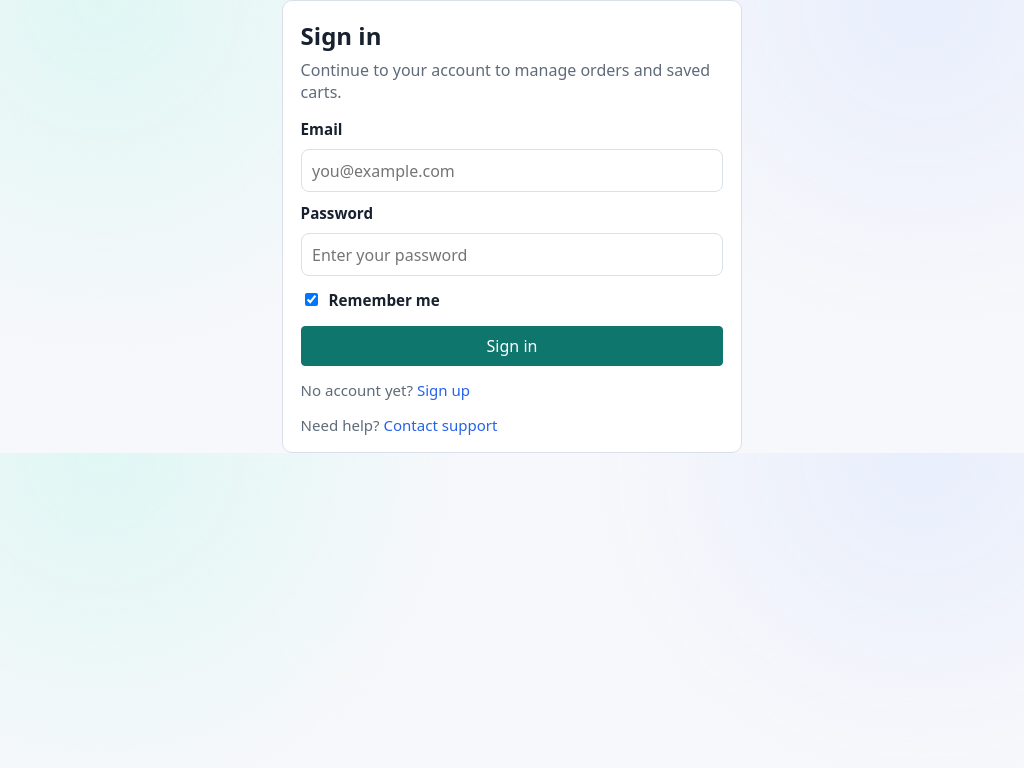
Test: SignIn › shows an auth error when sign-in fails
Type "user@example.com" into the field labelled "Email".
click(512, 171); type("user@example.com")  # box [301,149,723,192]
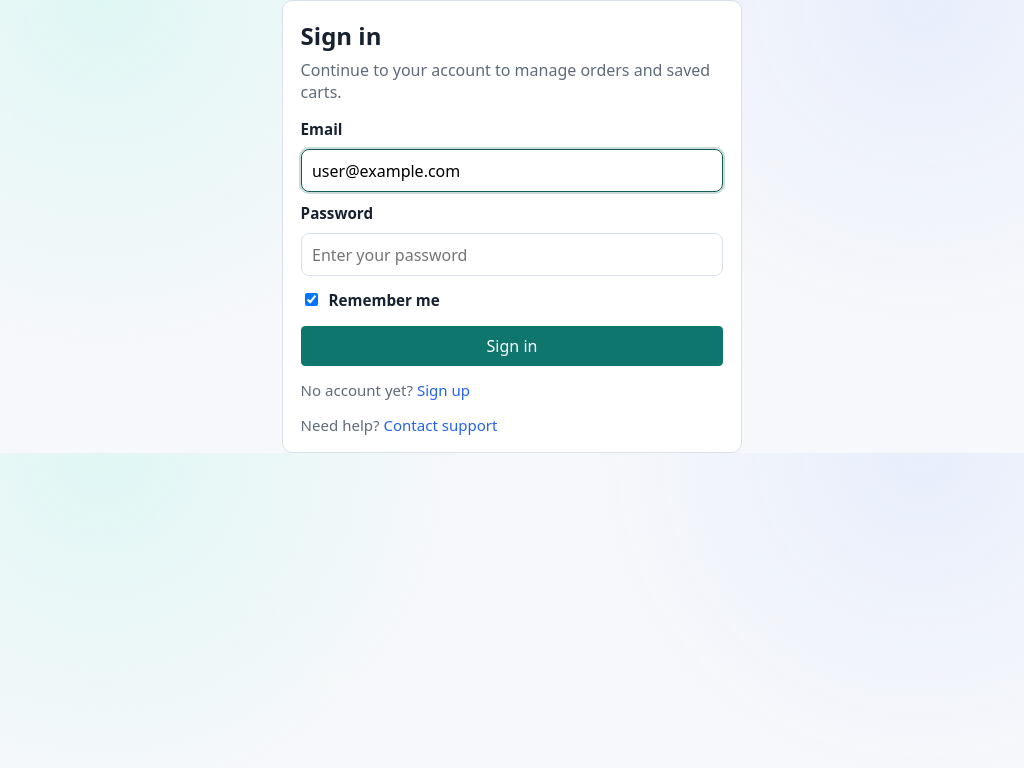
Type "wrong-password" into the password field labelled "Password".
click(512, 255); type("wrong-password")  # box [301,233,723,276]
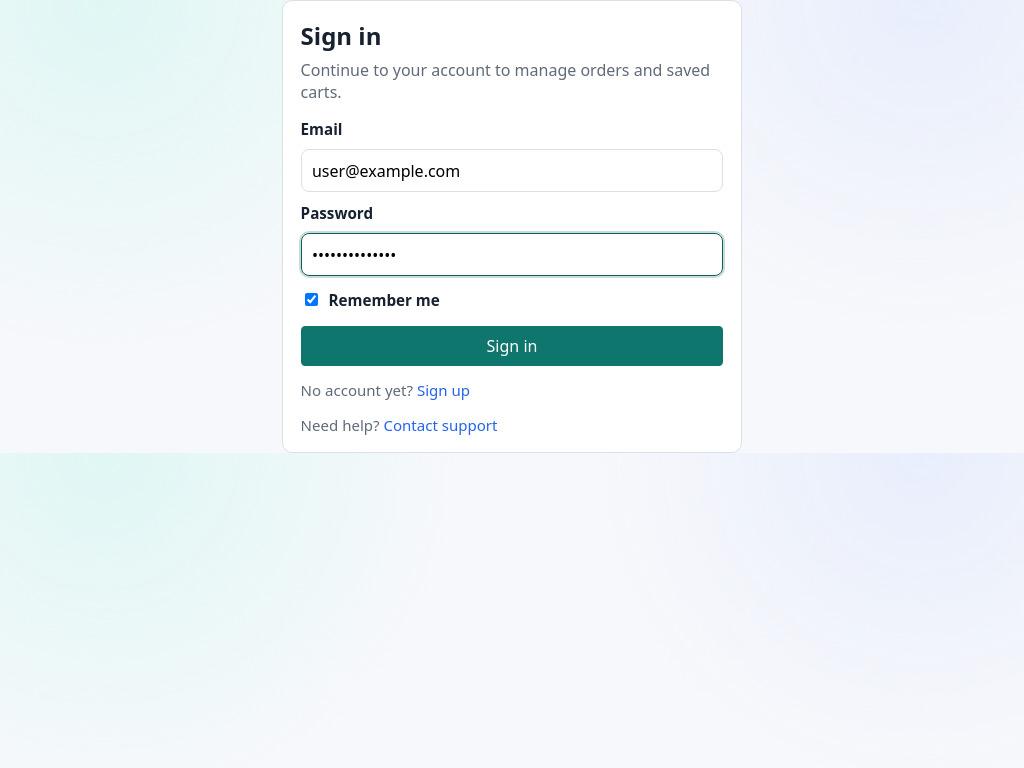
Click the button "Sign in".
click(512, 346)  # box [301,326,723,366]
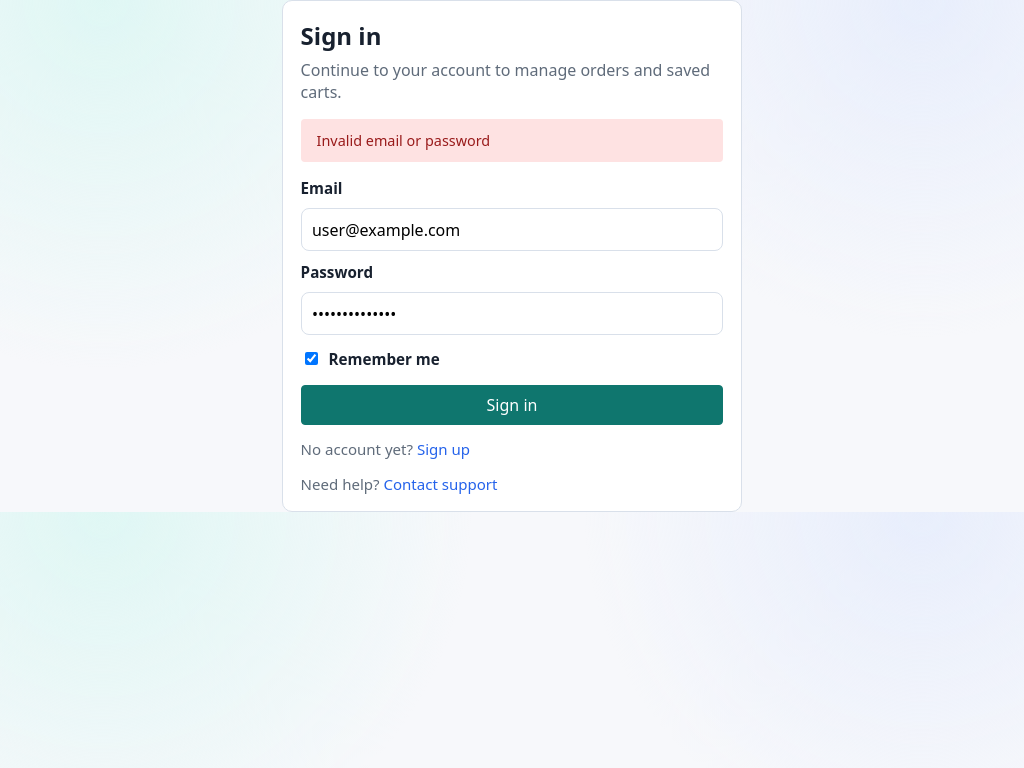
Now the message reads "Invalid email or password", box [317,131,490,150]
